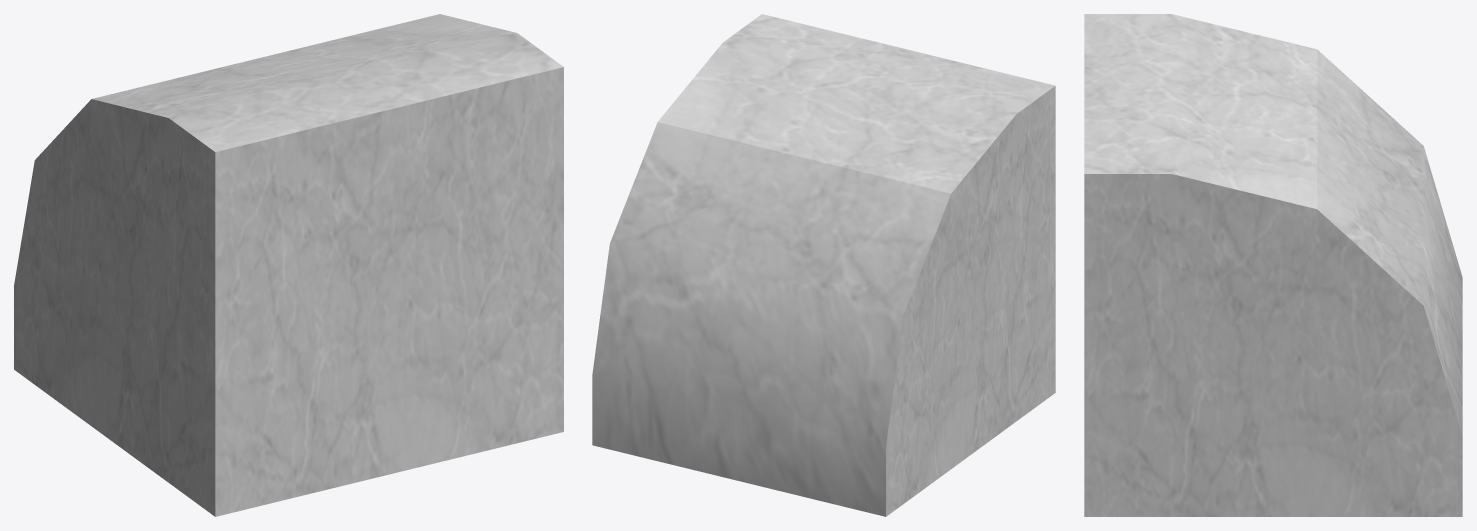
The model's file is POL0410009.fbx.
The picture shows the model from 3 angles, left to right: view 1: azimuth 30°, elevation 25°; view 2: azimuth 150°, elevation 25°; view 3: azimuth 270°, elevation 25°; orthographic projection. The views are drawn at different scales.
Visible parts, largest first — view 1: smPOL0410009; view 2: smPOL0410009; view 3: smPOL0410009.
Part boxes in pixels (box(x1,y1,x2,y2)): smPOL0410009: box(14, 14, 563, 516); smPOL0410009: box(592, 14, 1055, 516); smPOL0410009: box(1084, 14, 1462, 516).
Size of the model in its own units: 161 by 161 by 161.
Materials: 1 (1 with a texture image).
